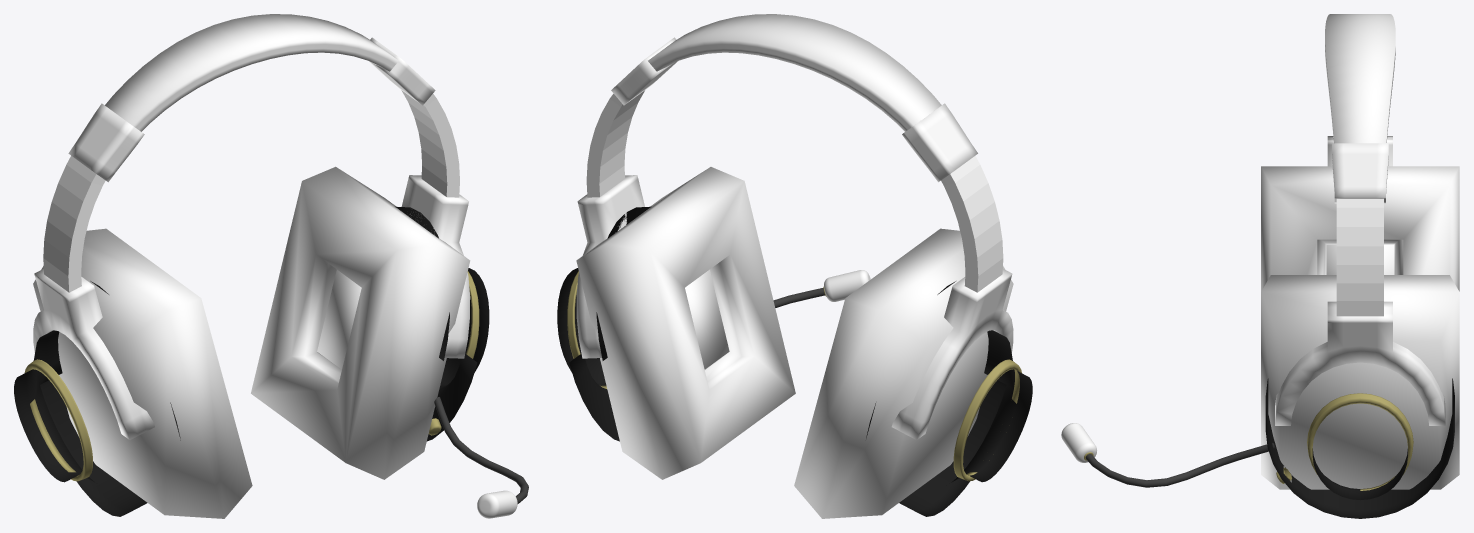
Rendered from headphones.glb.
The picture shows the model from 3 angles, left to right: view 1: azimuth 30°, elevation 25°; view 2: azimuth 150°, elevation 25°; view 3: azimuth 270°, elevation 25°; orthographic projection. The views are drawn at different scales.
Parts seen in each view (by area): view 1: Cube, Cube.001, Circle.005, Circle.004, Circle.003, Circle.002, Circle.001, Circle, Cube.002, Circle.010, Cube.003, Plane (+2 smaller); view 2: Cube, Cube.001, Circle.005, Circle.004, Circle.003, Circle.002, Circle.001, Circle, Cube.002, Circle.010, Cube.003, Cylinder.001 (+1 smaller); view 3: Cube, Cube.001, Circle.005, Circle.001, Circle.004, Circle, Cube.003, Circle.009, Plane, Cylinder.001.
Boxes of the visible parts, left/top/right/bottom form: Cube: left=251, top=166, right=470, bottom=479; Cube.001: left=33, top=228, right=252, bottom=518; Circle.005: left=105, top=14, right=398, bottom=131; Circle.004: left=43, top=90, right=459, bottom=292; Circle.003: left=14, top=281, right=180, bottom=516; Circle.002: left=33, top=268, right=154, bottom=439; Circle.001: left=401, top=175, right=470, bottom=358; Circle: left=395, top=206, right=489, bottom=441; Cube.002: left=68, top=103, right=144, bottom=182; Circle.010: left=24, top=359, right=92, bottom=481; Cube.003: left=369, top=37, right=435, bottom=105; Plane: left=434, top=397, right=528, bottom=503; Cube: left=576, top=167, right=795, bottom=479; Cube.001: left=794, top=228, right=1013, bottom=518; Circle.005: left=648, top=14, right=941, bottom=131; Circle.004: left=586, top=90, right=1003, bottom=292; Circle.003: left=866, top=281, right=1032, bottom=516; Circle.002: left=891, top=269, right=1013, bottom=439; Circle.001: left=576, top=175, right=644, bottom=358; Circle: left=557, top=206, right=651, bottom=441; Cube.002: left=902, top=103, right=977, bottom=182; Circle.010: left=953, top=359, right=1021, bottom=481; Cube.003: left=611, top=37, right=677, bottom=105; Cylinder.001: left=824, top=270, right=870, bottom=301; Cube: left=1261, top=275, right=1459, bottom=489; Cube.001: left=1261, top=166, right=1459, bottom=291; Circle.005: left=1325, top=14, right=1395, bottom=143; Circle.001: left=1275, top=301, right=1445, bottom=425; Circle.004: left=1336, top=198, right=1383, bottom=316; Circle: left=1265, top=378, right=1454, bottom=518; Cube.003: left=1332, top=143, right=1388, bottom=203; Circle.009: left=1307, top=393, right=1413, bottom=490; Plane: left=1085, top=443, right=1275, bottom=487; Cylinder.001: left=1061, top=423, right=1096, bottom=462.
Bounding box in the file's own units: 5.12 × 4.84 × 4.21.
